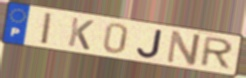0: (101, 22, 130, 56)
I: (40, 11, 54, 47)
J: (135, 28, 165, 60)
K: (66, 16, 96, 52)
N: (164, 29, 203, 67)
R: (198, 35, 236, 71)
